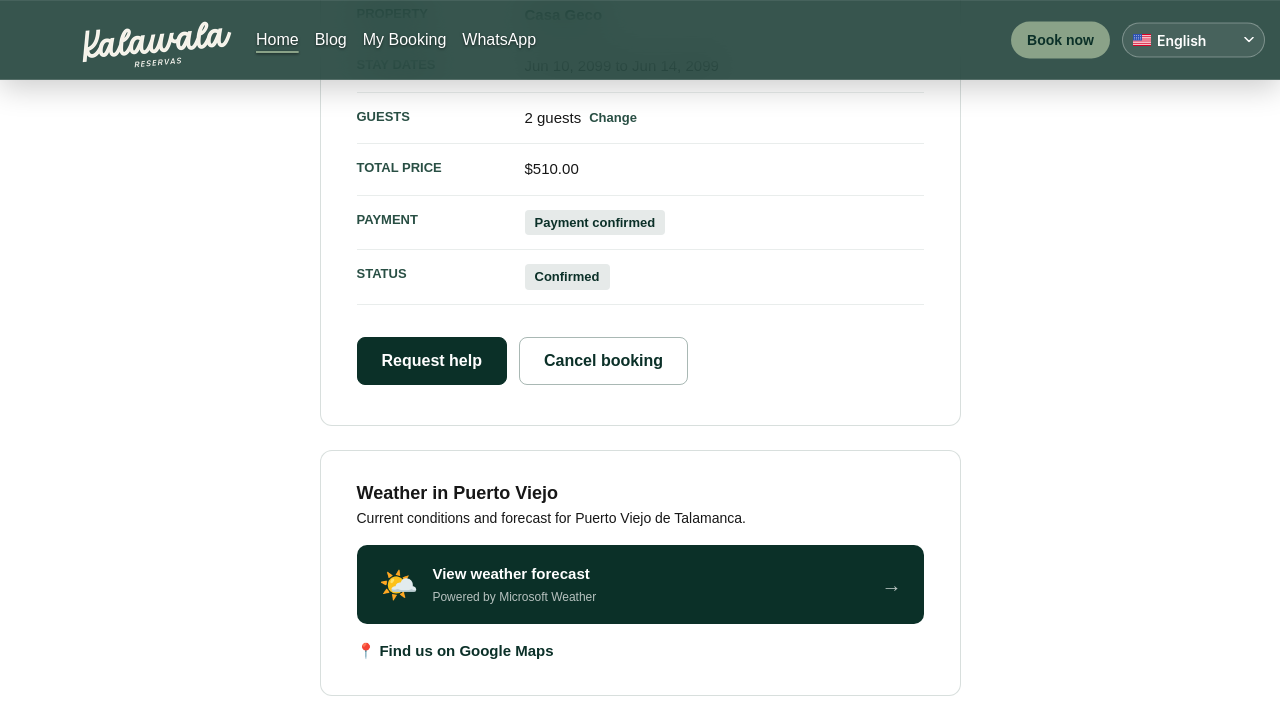
cancelling updates the displayed status from the response
The width and height of the screenshot is (1280, 720).
(page scrolled)
Click the button "Cancel booking". click: click(604, 361)
box: [519,337,688,385]
(page scrolled)
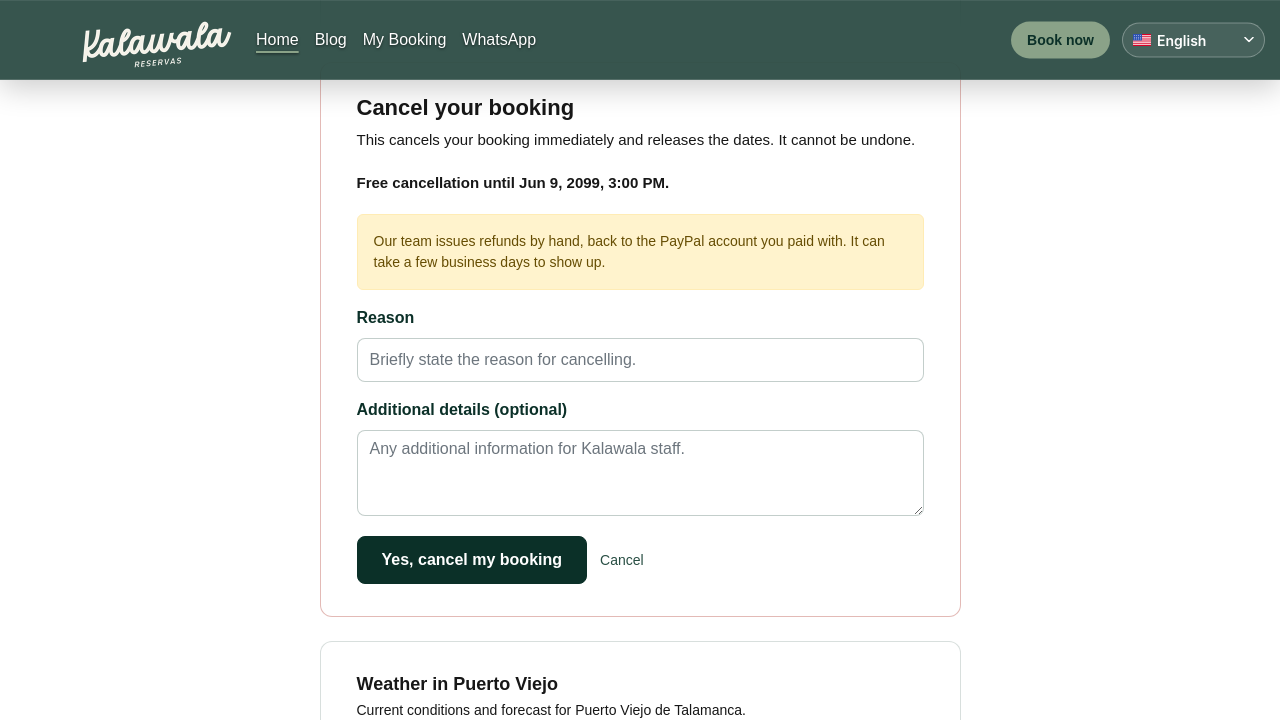
Type "plans changed" into the field labelled "Reason". click: (640, 360)
box: [356,338,924,382]
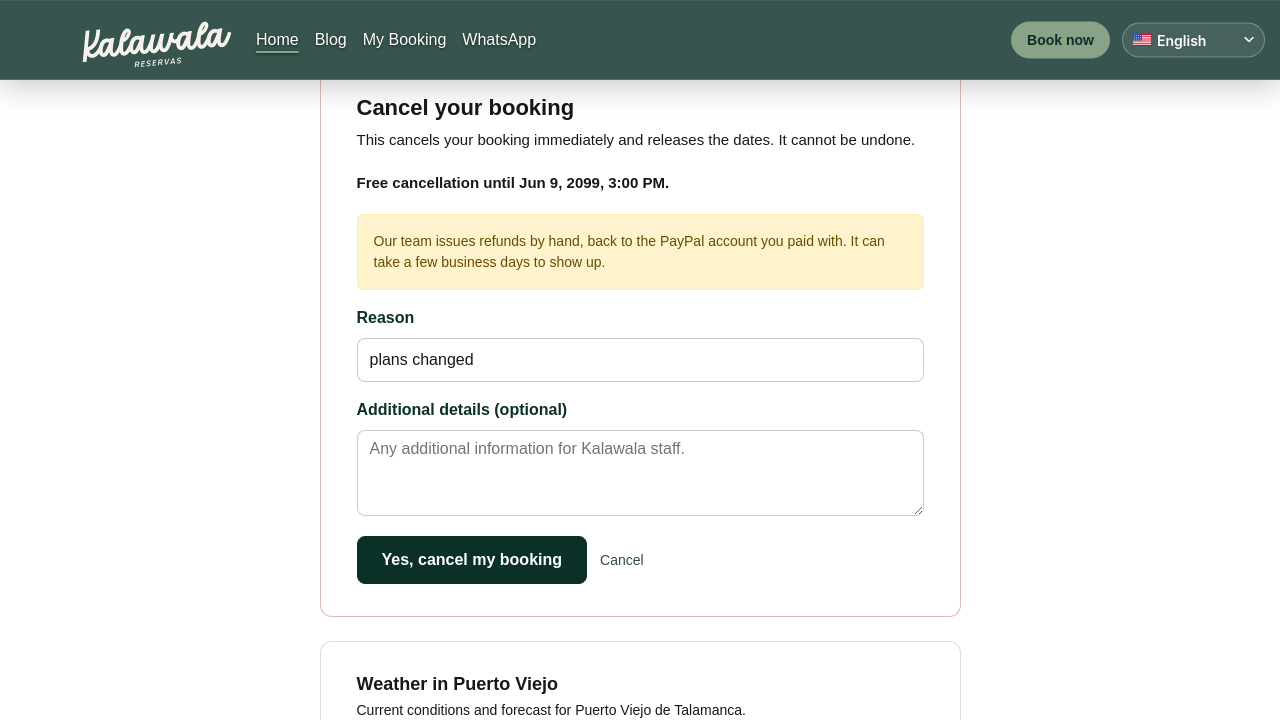
Click the button "Yes, cancel my booking". click: click(472, 560)
box: [356,536,587,584]
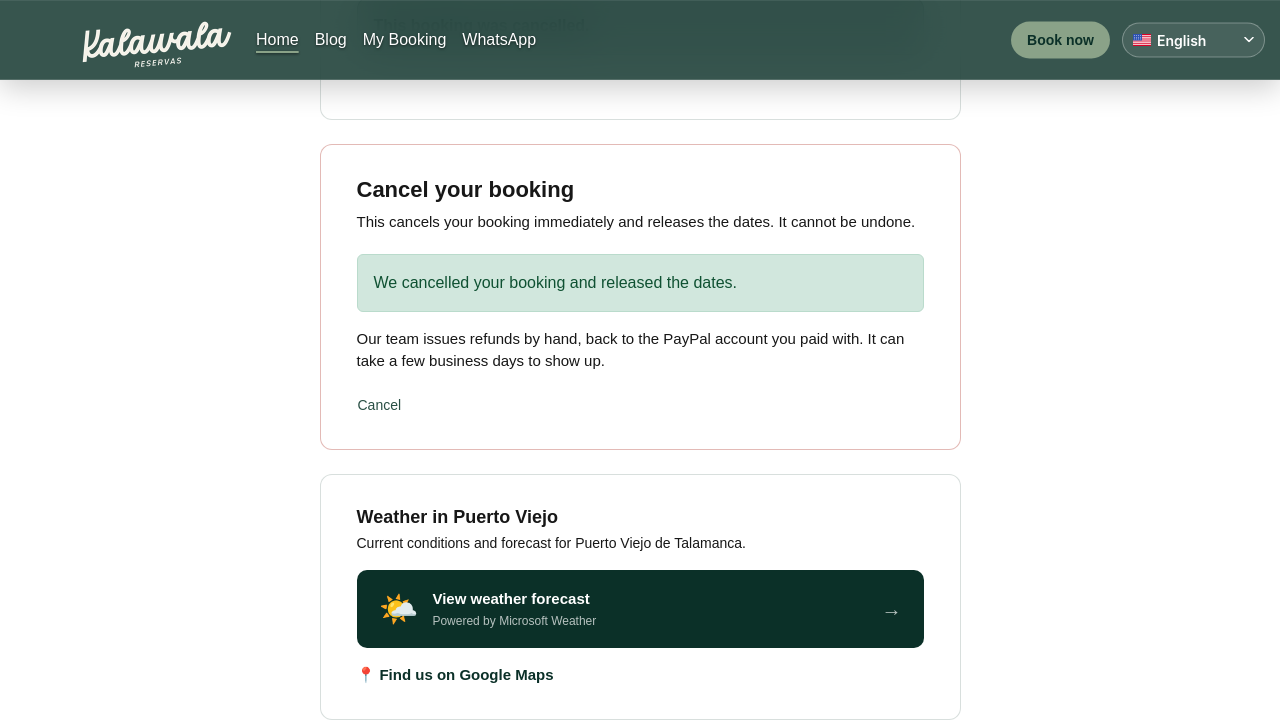
Check: the text "back to the PayPal account" is shown, box [356,330,904,369]
Check: the text "We cancelled your booking and released the dates." is shown, box [356,254,924,312]
